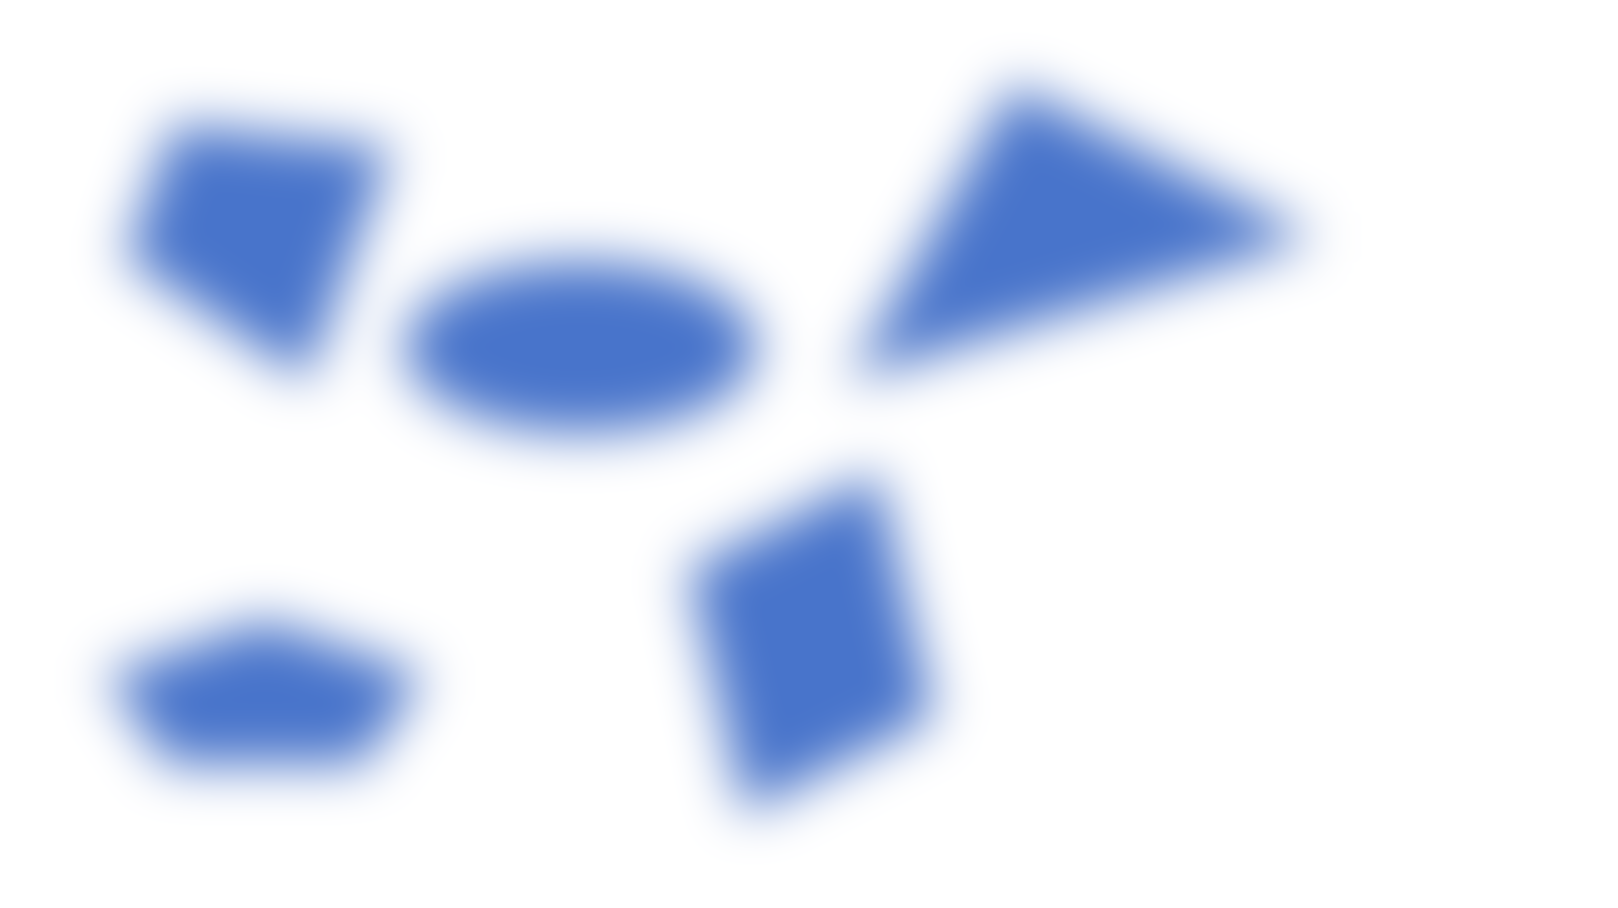circle: (390, 232, 765, 453)
parallelogram: (665, 456, 951, 824)
pentagon: (84, 599, 438, 785)
trapezium: (114, 112, 404, 368)
triangle: (827, 72, 1332, 369)
